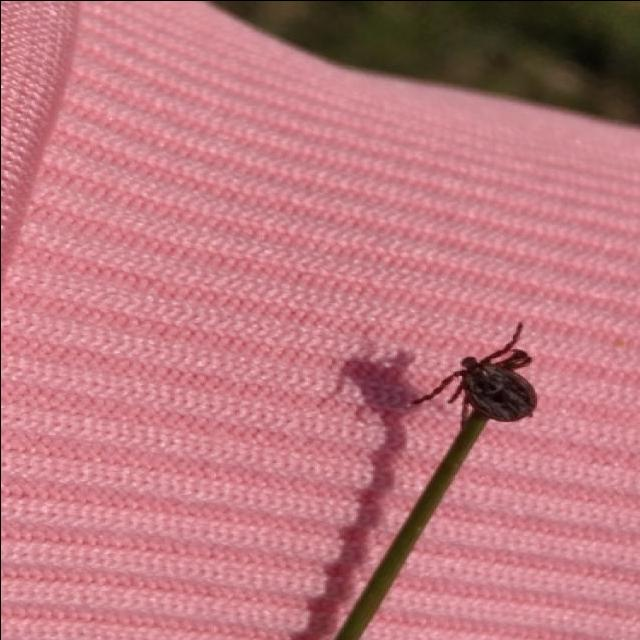Dermacentor Reticulatus-M: (410, 321, 536, 420)
